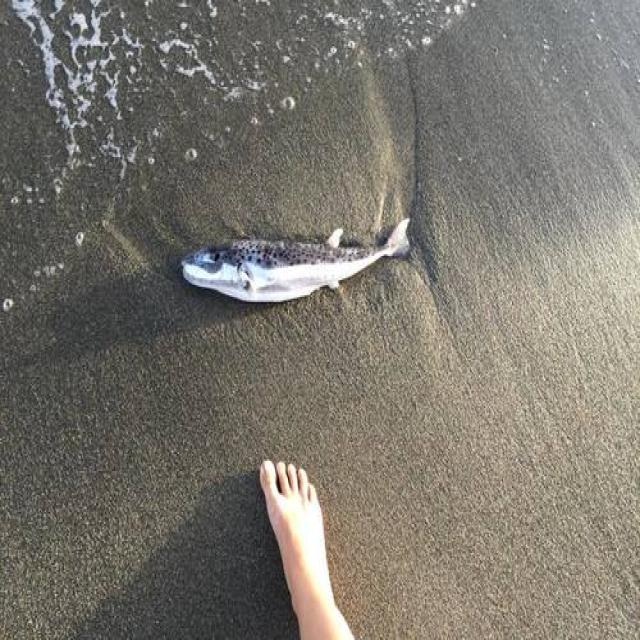Balik: (182, 219, 409, 302)
